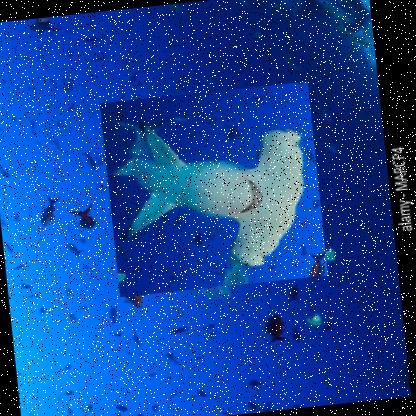hammerhead_Shark: (99, 78, 328, 296)
